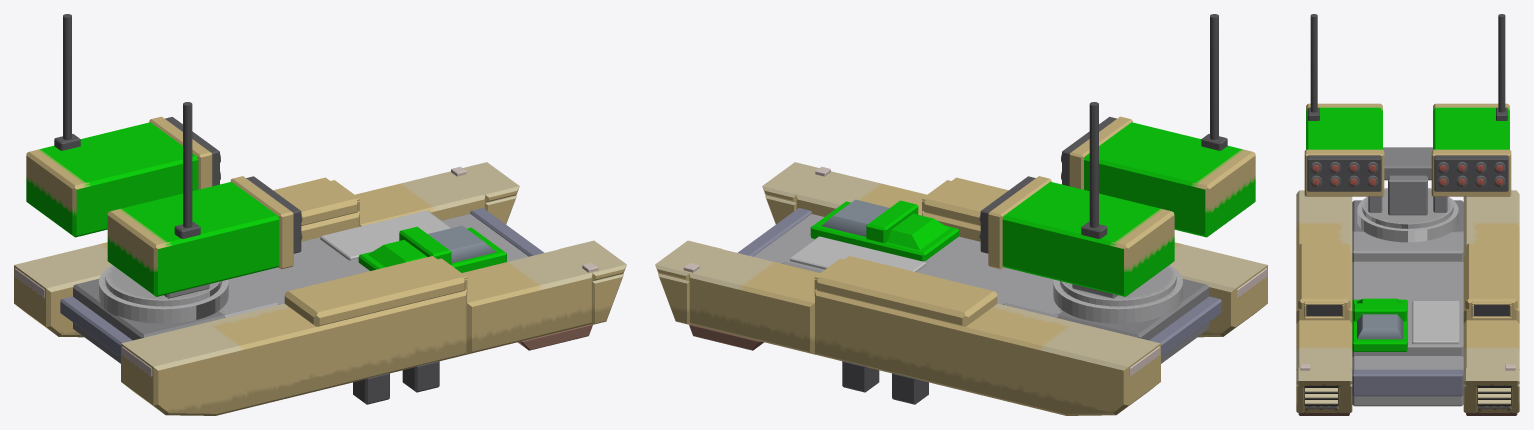
The model's file is hover-mlrs.glb.
3 views of the same model, side by side, from view 1: azimuth 30°, elevation 25°; view 2: azimuth 150°, elevation 25°; view 3: azimuth 270°, elevation 25° (orthographic). The views are drawn at different scales.
Visible parts, largest first — view 1: pontoon, pod, pod_2, pontoon_2, pontoon_hump, pontoon_3, pontoon_4, mid_deck, front_plate, pad, engine_deck, pontoon_hump_2 (+21 smaller); view 2: pontoon_3, pod_2, pod, pontoon_4, pontoon_hump_2, pontoon, mid_deck, pontoon_2, pad, engine_deck, pontoon_hump, front_plate (+21 smaller); view 3: mid_deck, pod, pod_2, pontoon, pontoon_3, pontoon_hump, pontoon_hump_2, front_bar, front_deck, turret_base, pontoon_2, pontoon_4 (+30 smaller).
Part boxes in pixels (x1,y1,x2,y2): pontoon: (121, 289, 466, 415); pod: (107, 181, 279, 296); pod_2: (26, 122, 198, 237); pontoon_2: (462, 249, 592, 354); pontoon_hump: (284, 256, 465, 326); pontoon_3: (14, 211, 359, 337); pontoon_4: (355, 171, 485, 226); mid_deck: (242, 211, 451, 304); front_plate: (320, 210, 450, 260); pad: (99, 267, 228, 323); engine_deck: (73, 279, 224, 363); pontoon_hump_2: (273, 177, 358, 225); pontoon_3: (815, 289, 1160, 415); pod_2: (1002, 181, 1174, 296); pod: (1084, 122, 1255, 237); pontoon_4: (689, 249, 819, 354); pontoon_hump_2: (816, 256, 997, 326); pontoon: (922, 211, 1267, 337); mid_deck: (782, 236, 1039, 304); pontoon_2: (796, 171, 926, 216); pad: (1053, 267, 1182, 323); engine_deck: (1055, 279, 1208, 363); pontoon_hump: (923, 177, 1008, 225); front_plate: (790, 236, 925, 272); mid_deck: (1352, 261, 1463, 356); pod: (1306, 103, 1382, 149); pod_2: (1433, 103, 1509, 149); pontoon: (1296, 190, 1352, 323); pontoon_3: (1463, 190, 1519, 323); pontoon_hump: (1298, 243, 1350, 309); pontoon_hump_2: (1465, 243, 1517, 309); front_bar: (1352, 369, 1463, 396); front_deck: (1352, 356, 1463, 406); turret_base: (1352, 231, 1463, 262); pontoon_2: (1296, 320, 1352, 370); pontoon_4: (1463, 320, 1519, 370).
Size of the model in its own units: 1.15 by 0.78 by 0.602.
